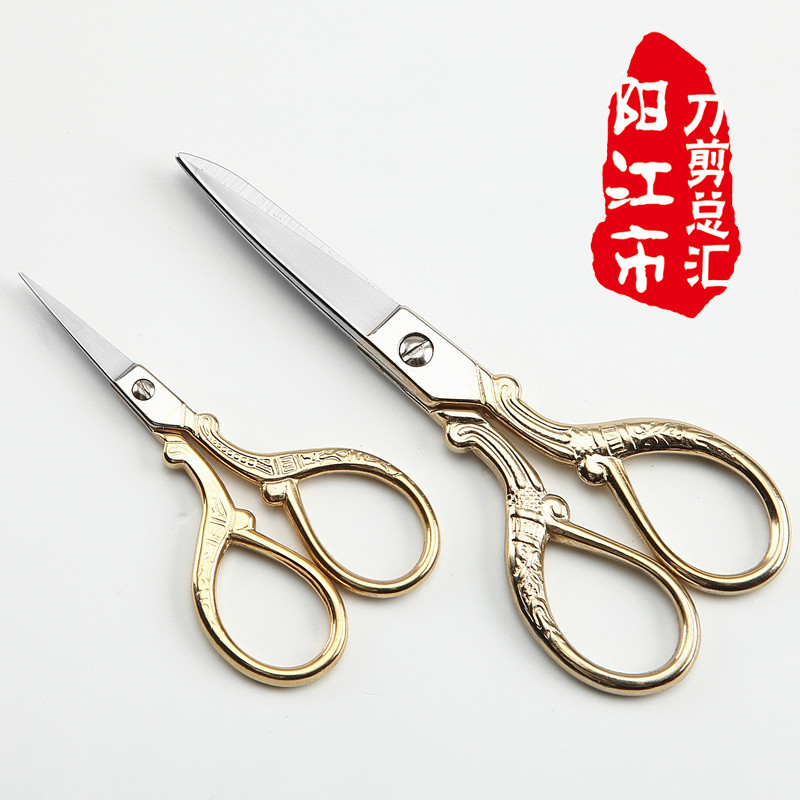scissors: (172, 144, 795, 715), (6, 262, 442, 697)
